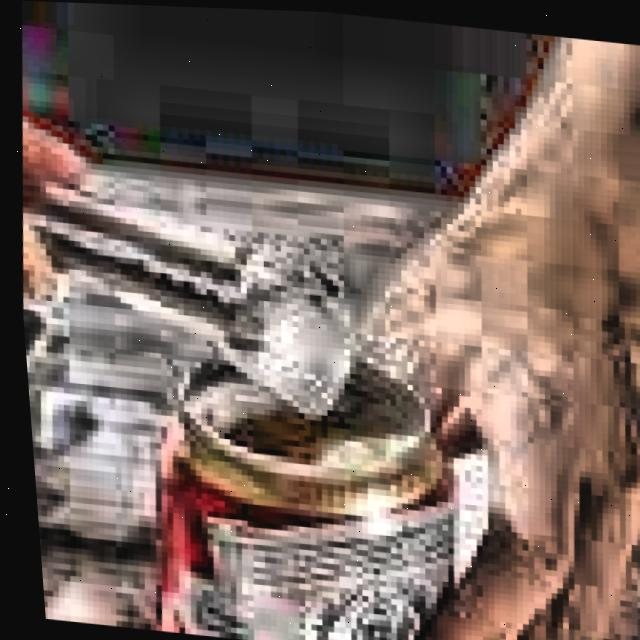metal: (116, 320, 482, 640)
